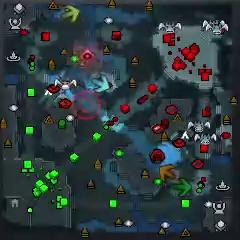x2: (60, 5, 79, 21)
x3: (92, 75, 108, 94)
x4: (171, 178, 191, 196)
x5: (159, 164, 175, 180)
